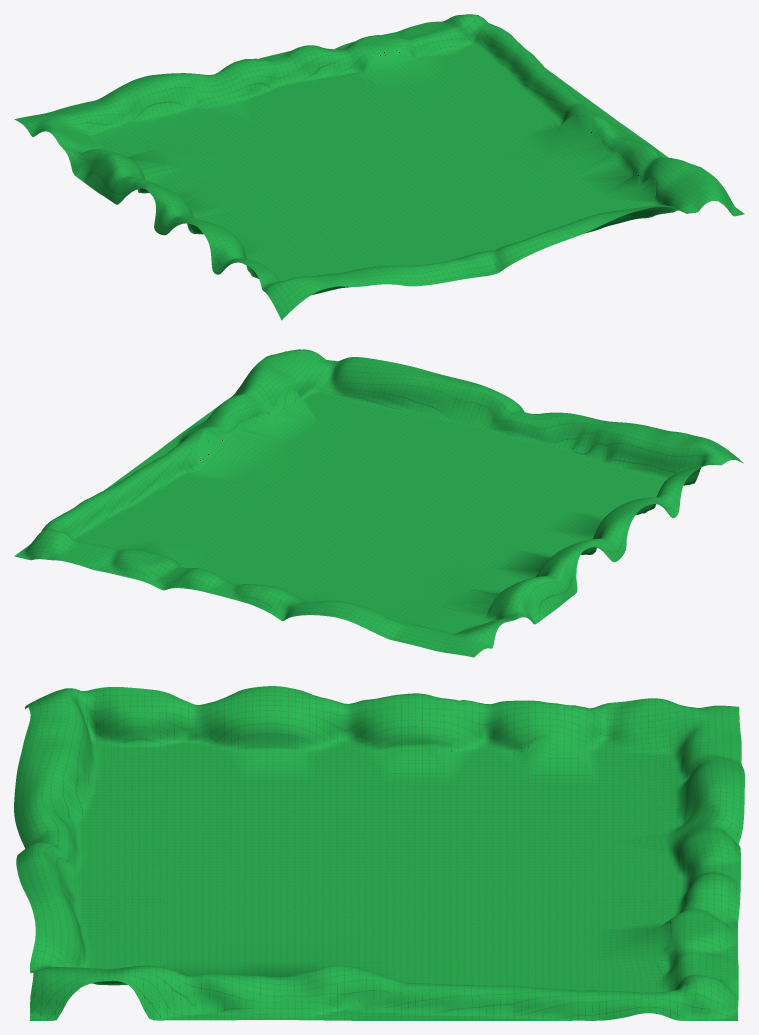
File: Mountains.dae
3 renders of one model, top to bottom at view 1: azimuth 30°, elevation 25°; view 2: azimuth 150°, elevation 25°; view 3: azimuth 270°, elevation 25°, orthographic. The views are drawn at different scales.
Parts seen in each view (by area): view 1: Grid; view 2: Grid; view 3: Grid.
Part boxes in pixels (x1,y1,x2,y2): Grid: (14,14,744,320); Grid: (14,349,743,657); Grid: (14,686,744,1020).
Bounding box in the file's own units: 20.1 × 20.65 × 1.35.
1 material, 1 textured.
